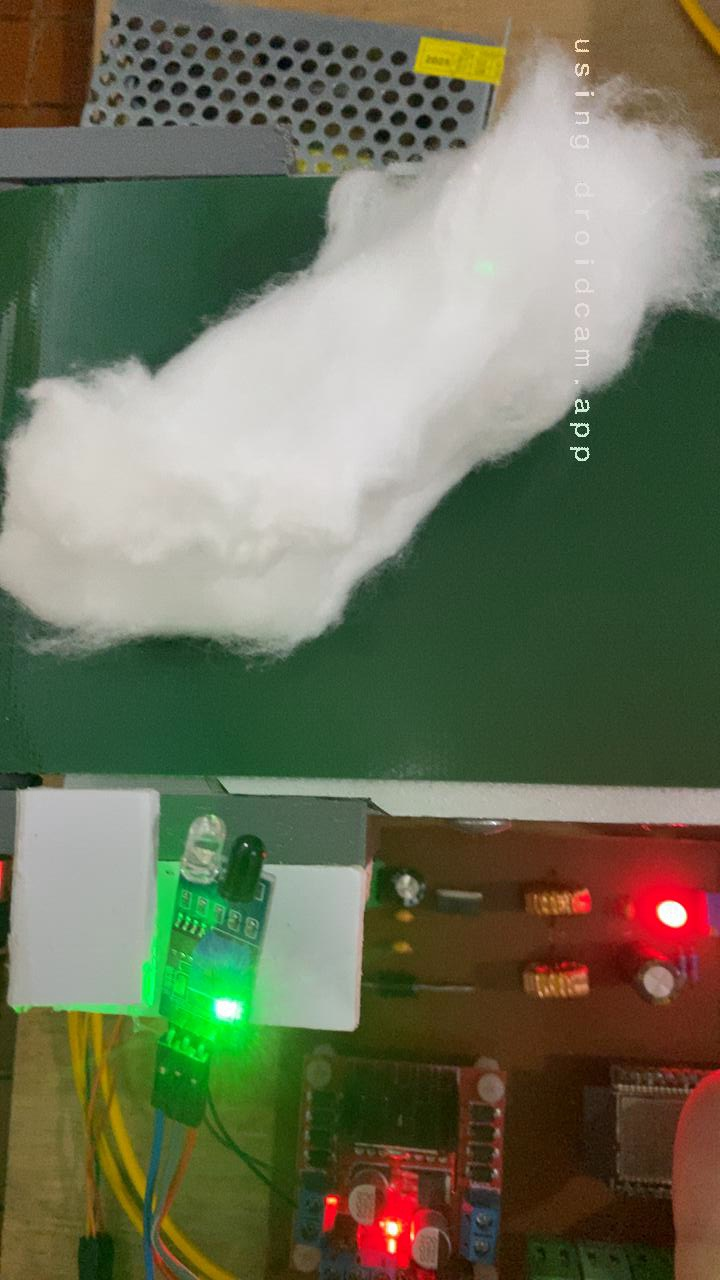cotton: (0, 179, 720, 661)
